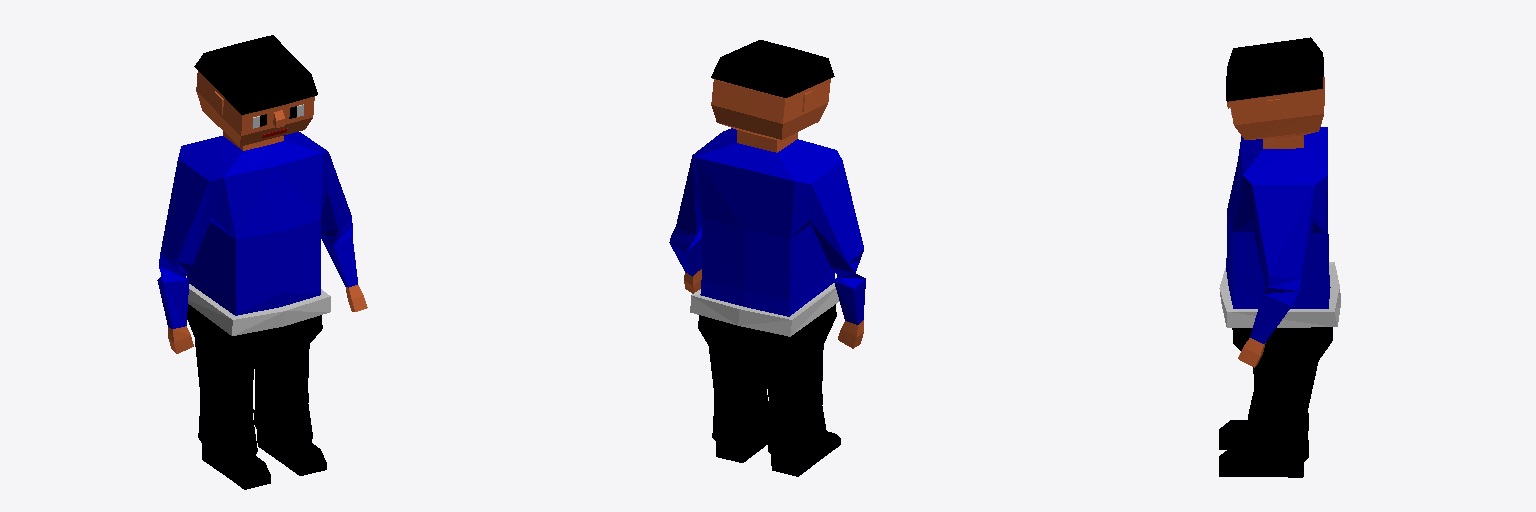
Rendered from figur.obj.
The picture shows the model from 3 angles: view 1: azimuth 30°, elevation 25°; view 2: azimuth 150°, elevation 25°; view 3: azimuth 270°, elevation 25°; orthographic projection.
Visible parts, largest first — view 1: Cube; view 2: Cube; view 3: Cube.
Part boxes in pixels (x1,y1,x2,y2): Cube: (157,35,367,489); Cube: (669,40,865,476); Cube: (1219,37,1340,477).
Size of the model in its own units: 0.7192 by 1.46 by 0.4015.